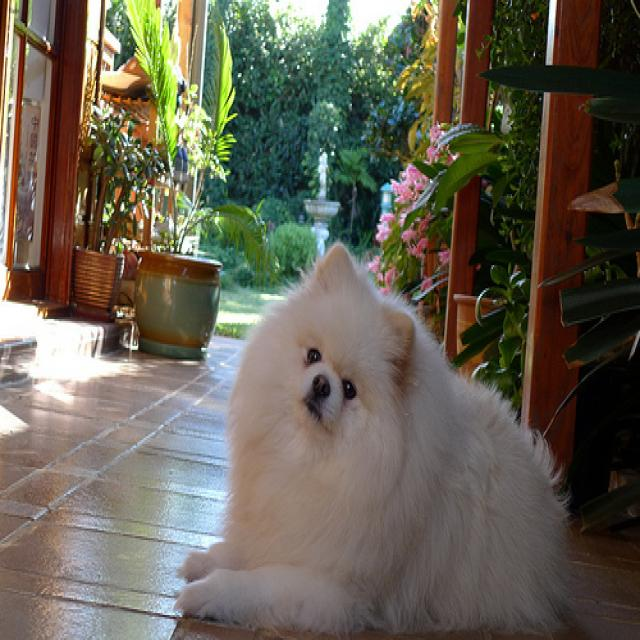dog-pomeranian: (160, 236, 576, 636)
